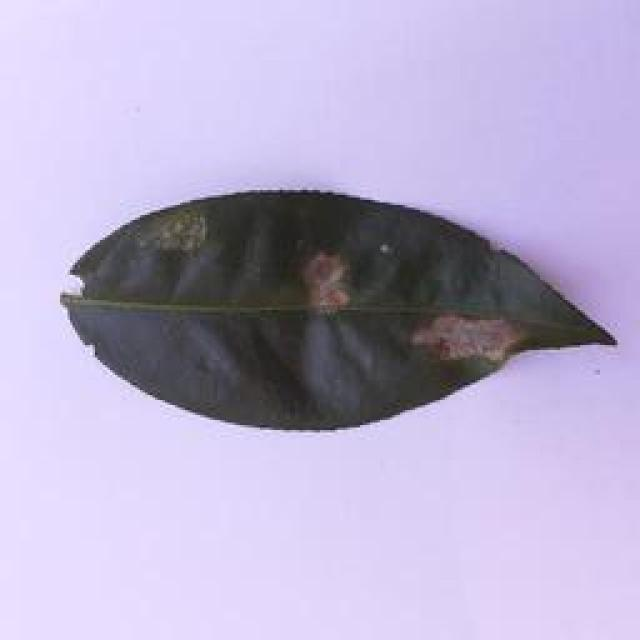Gray Blight: (56, 176, 640, 443)
